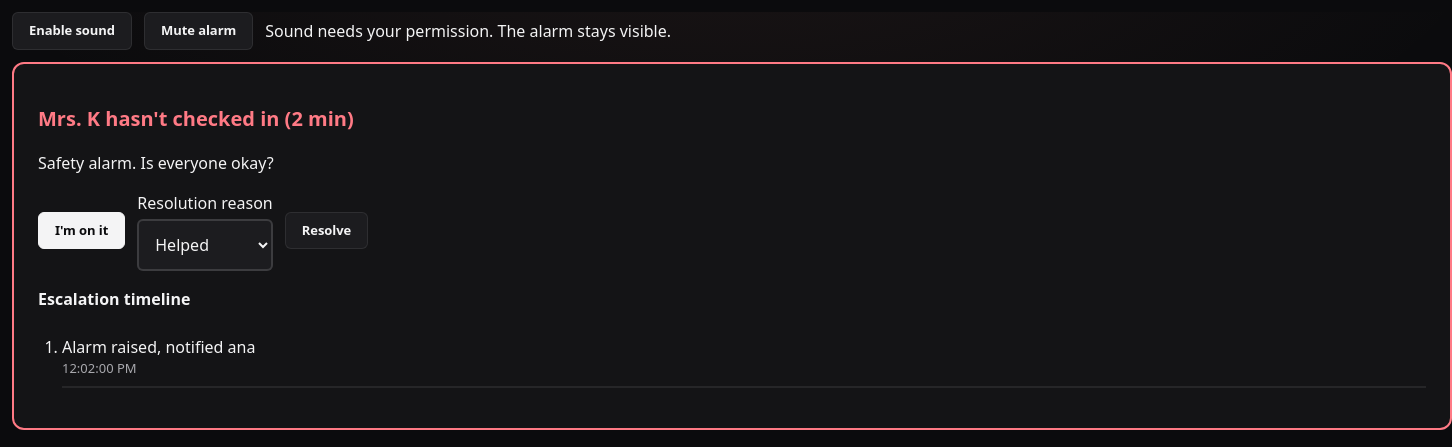
Test: supervisor alarm › shows the alarm, sends the chosen resolution, and clears the alarm while preserving its timeline
Expected: the heading "Mrs. K hasn't checked in (2 min)" is shown, [38,105,354,132]
Select "False alarm" in the dropdown labelled "Resolution reason": (205, 245) [137,219,273,271]
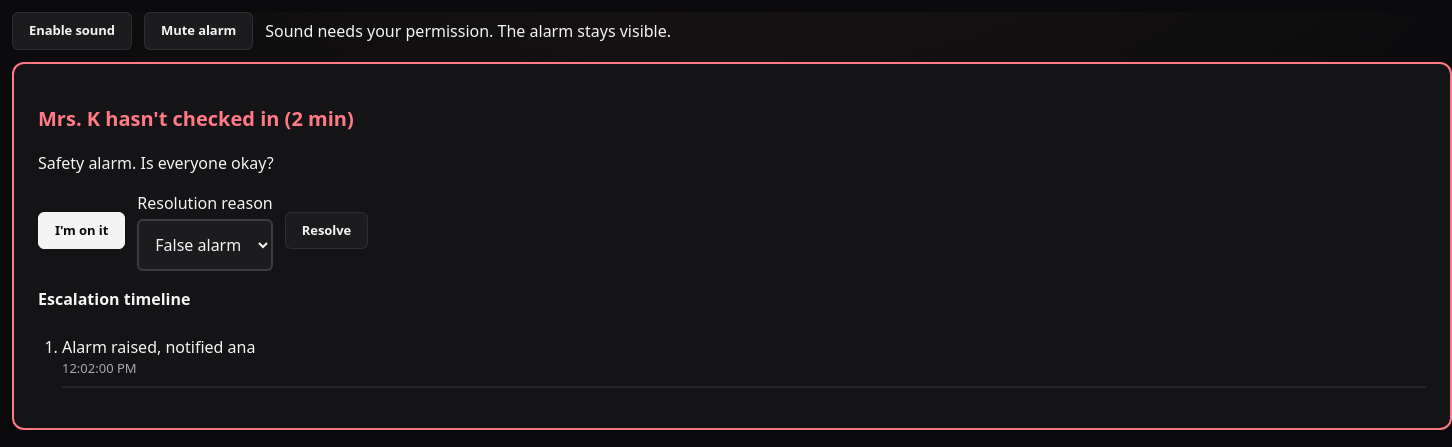
Click the button "Resolve": (326, 231) [285,212,368,249]
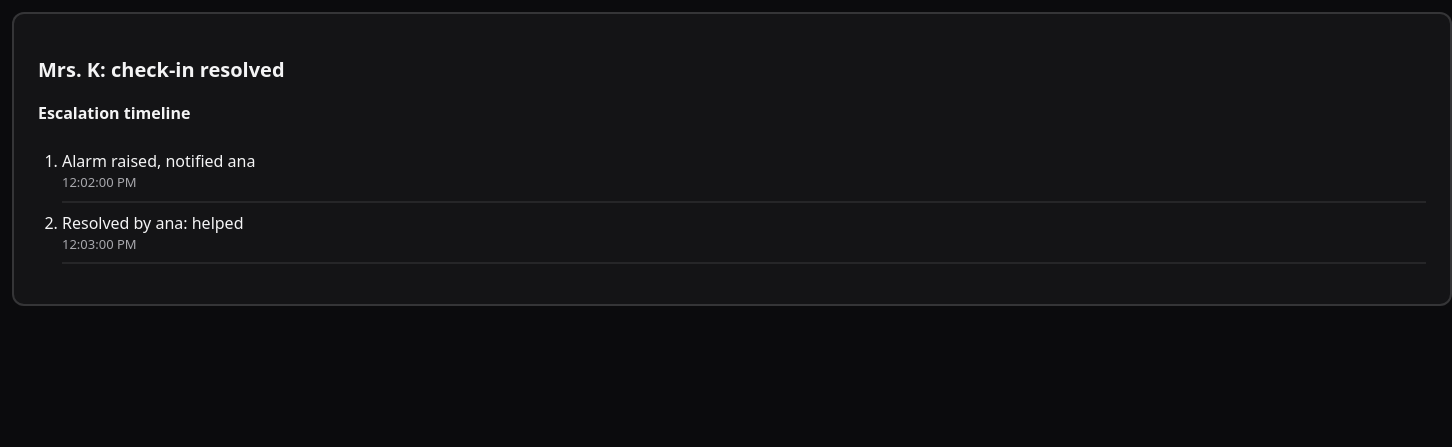
Result: the heading "Mrs. K: check-in resolved" is shown at [38,56,284,83]
Result: the text "Resolved by ana: helped" is shown at [62,212,244,234]
